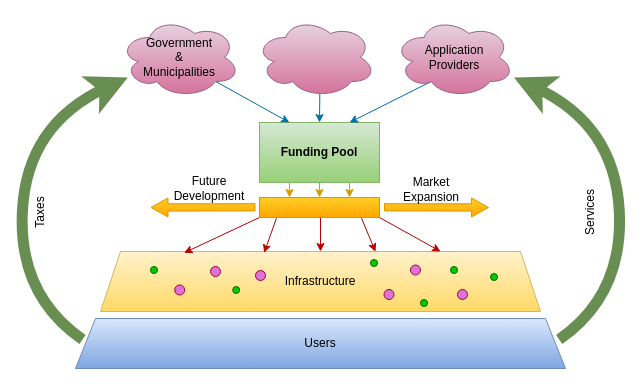
This 643x386 diagram has some shape labels left out. Here are the shapes that lost their labels. From the top down, the box of each, then its label:
(254, 16, 376, 98): Data Annalists
(258, 196, 380, 218): Protocol Fee
